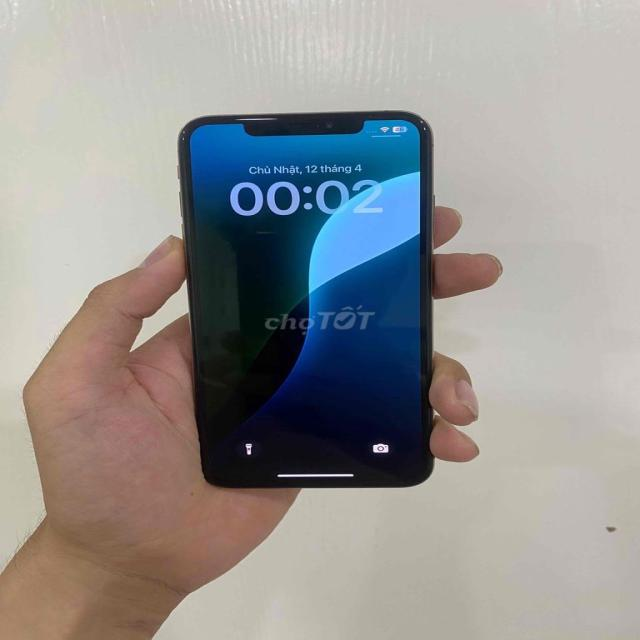gen_x_xs: (180, 111, 432, 488)
